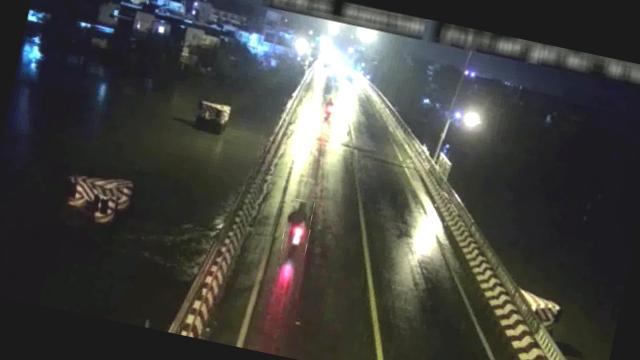Bike: (280, 198, 316, 254), (321, 94, 338, 119)
